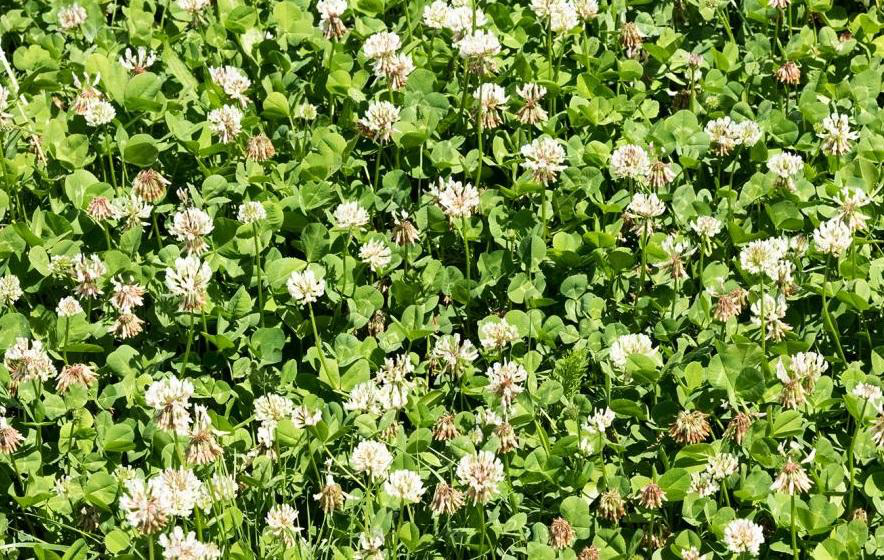clover: (4, 10, 872, 556)
